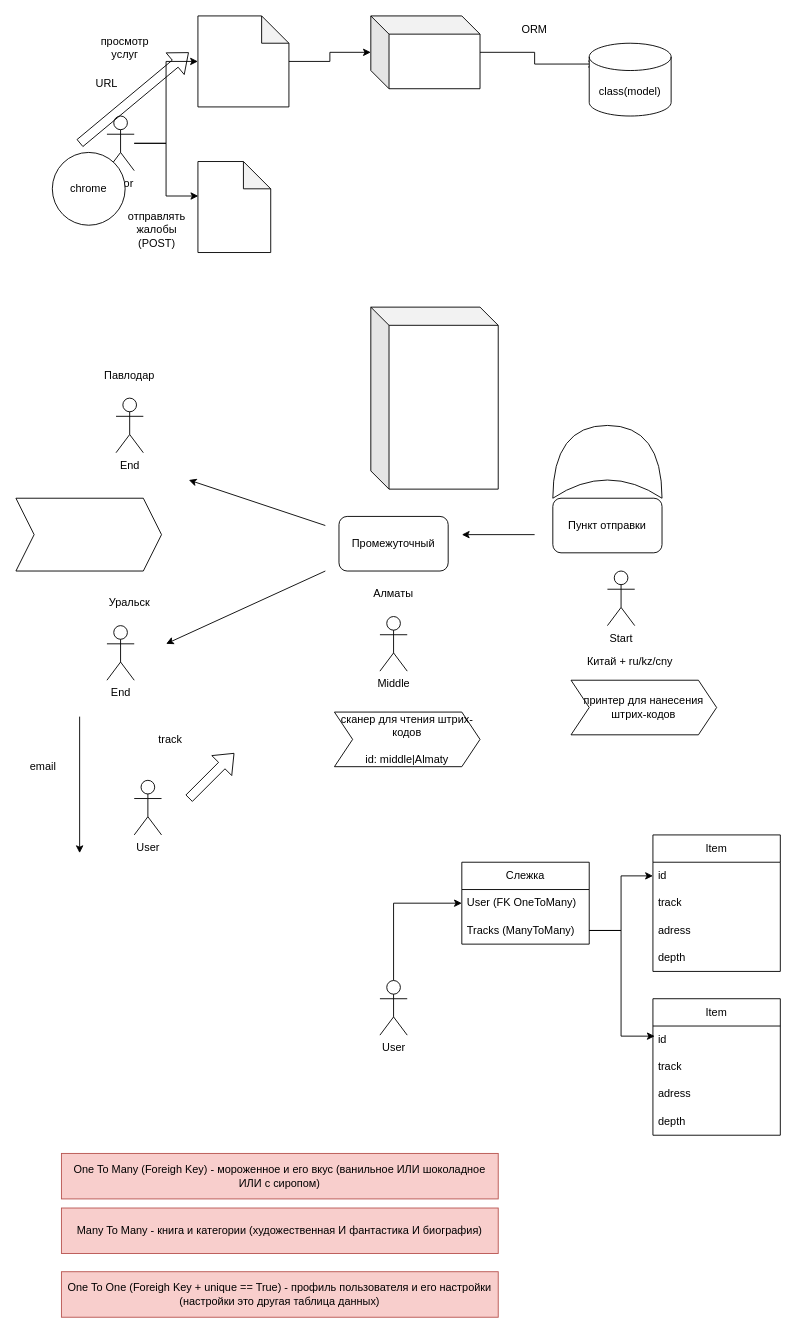
Image size: 796x1333. Some labels were removed from this diagram. Each missing label, with the centre of its shape:
def(view): point (425, 52)
html: point (234, 207)
html(template): point (243, 61)
track, date_start, date_planed_end, description, username, address, contact: point (434, 397)
сканер для чтения штрих-кодов id: final|Pavlodar: point (88, 534)
